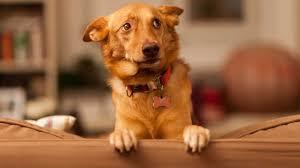Dog: (81, 2, 185, 75)
